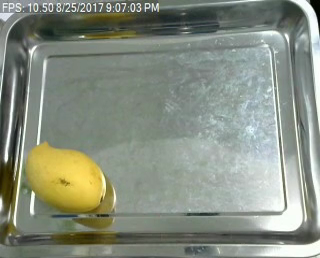Mango: (22, 139, 109, 214)
